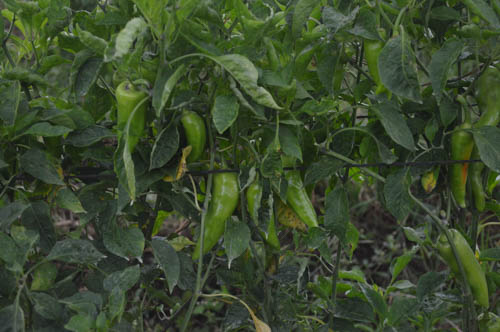ChiliPepper: (442, 234, 490, 307), (200, 172, 236, 266), (279, 166, 320, 232), (115, 84, 148, 150), (247, 186, 279, 245), (178, 112, 211, 169), (448, 129, 466, 209), (471, 70, 494, 131), (360, 36, 386, 83), (472, 148, 488, 211)
